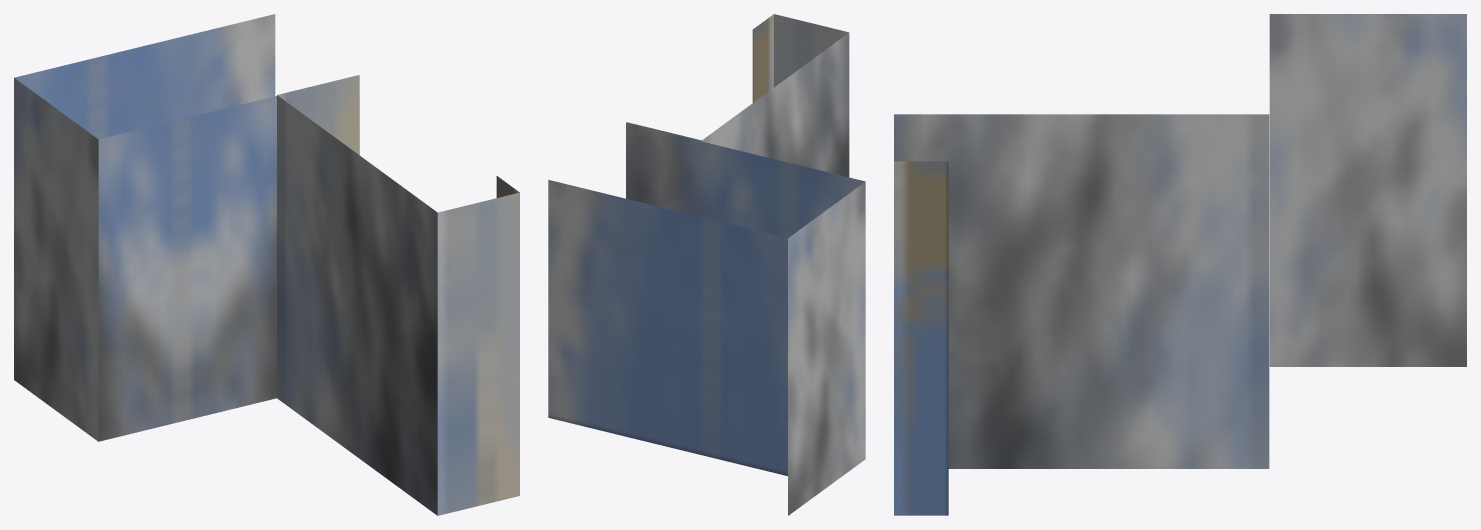
The model's file is section-2.obj.
3 views of the same model, side by side, from view 1: azimuth 30°, elevation 25°; view 2: azimuth 150°, elevation 25°; view 3: azimuth 270°, elevation 25° (orthographic). The views are drawn at different scales.
Bounding box in the file's own units: 0.74 × 0.8217 × 1.2.
